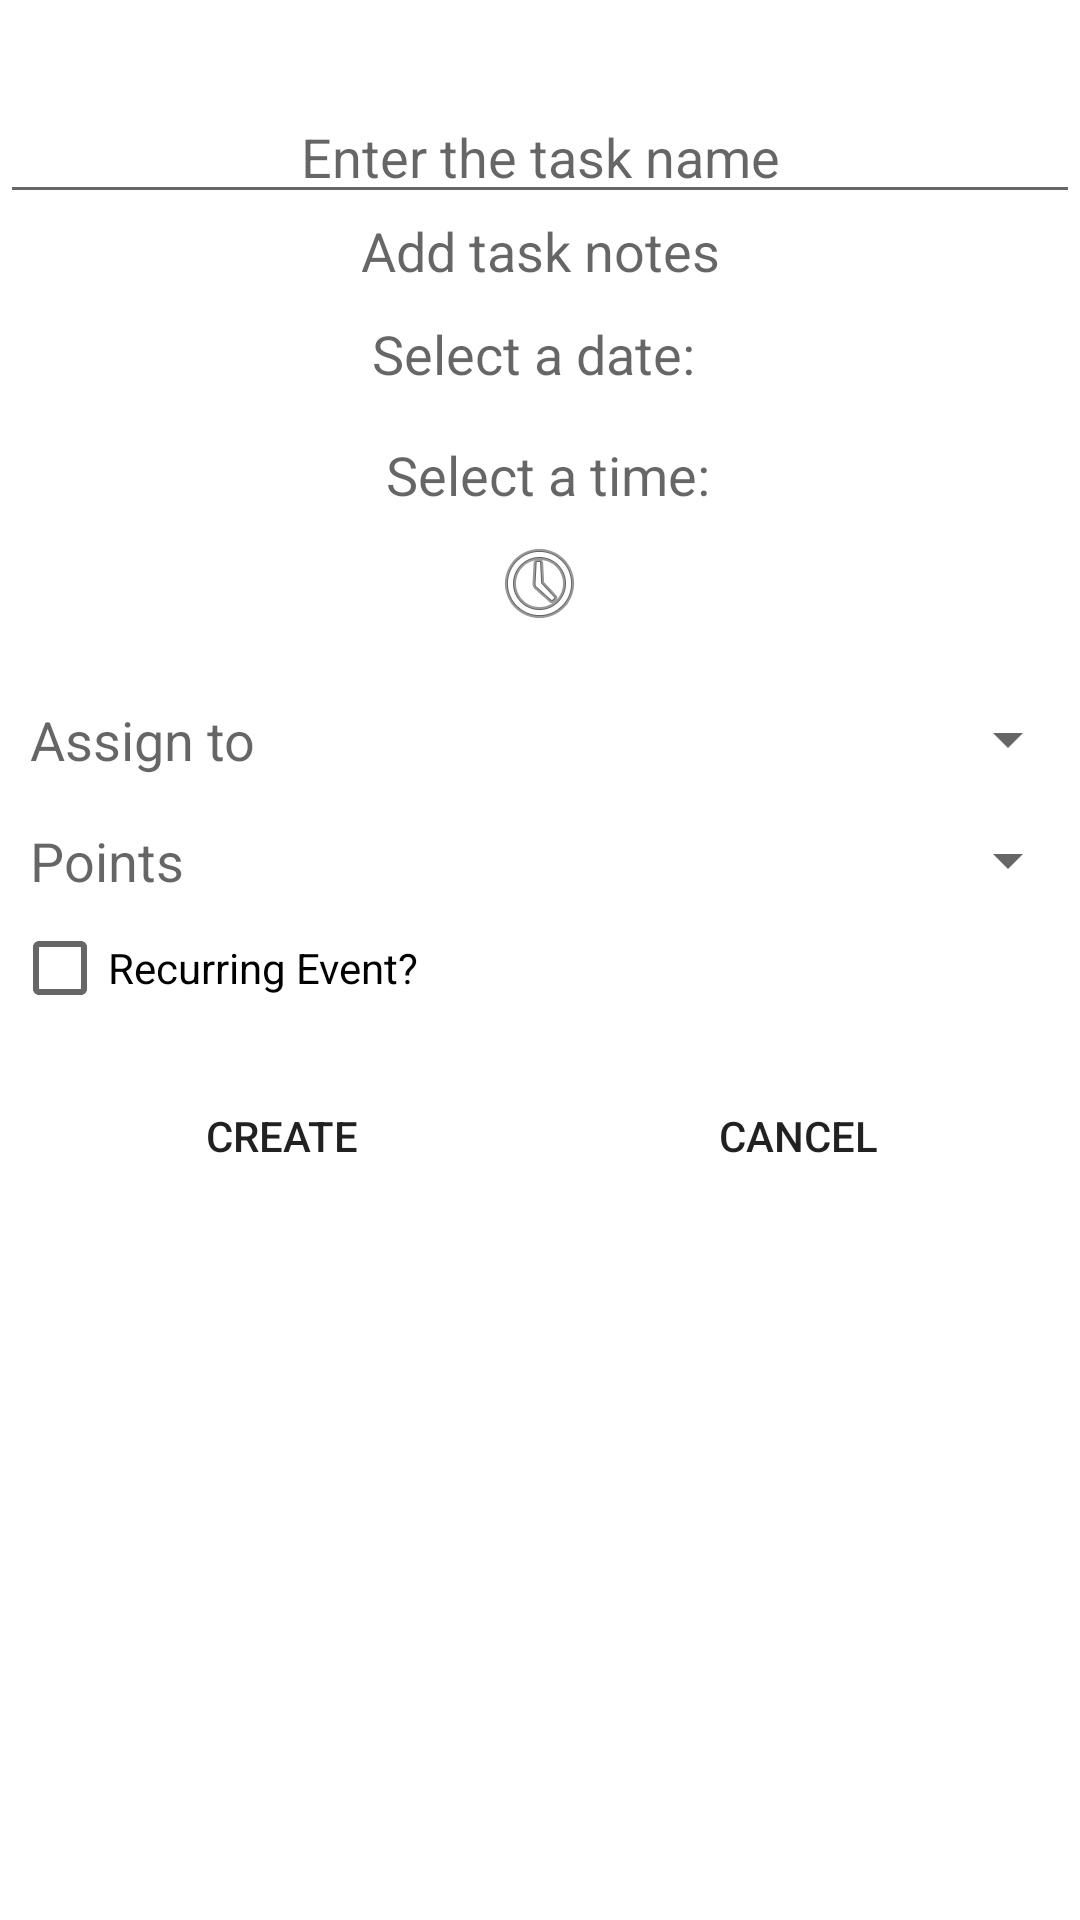

Named icons in this screenshot (1080px x 1920px) and their centers, [x,y]:
recent history: [539,583]
